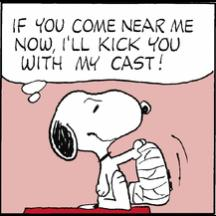snoopy: (46, 88, 175, 210)
